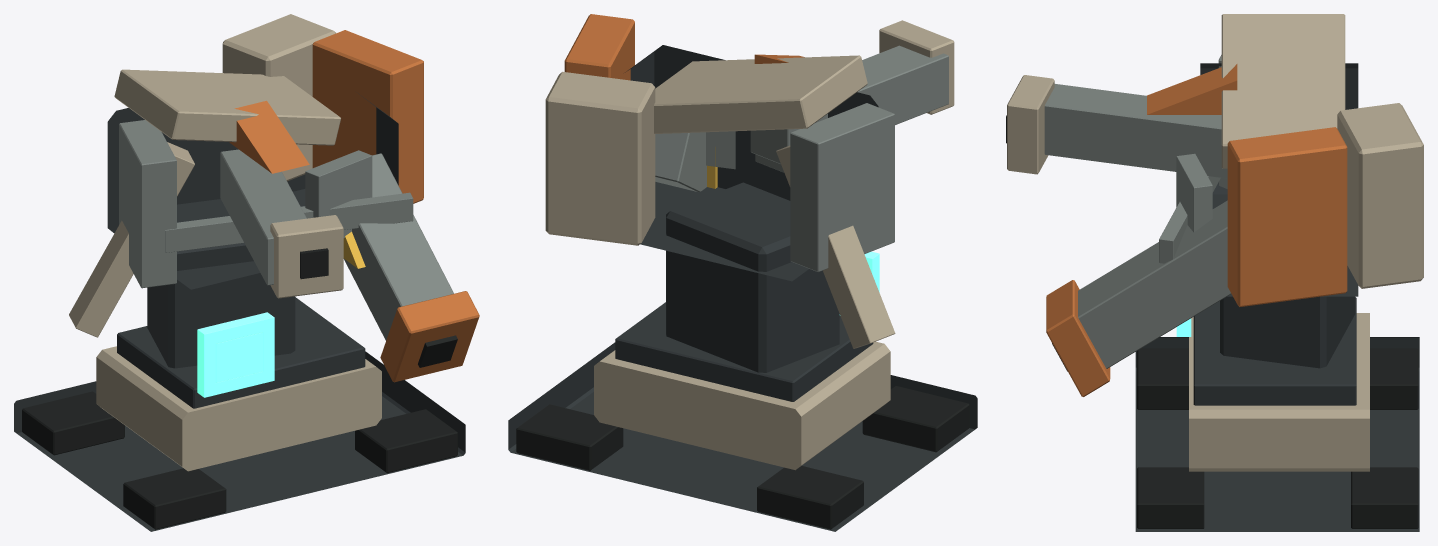
The model's file is damaged.glb.
3 views of the same model, side by side, from view 1: azimuth 30°, elevation 25°; view 2: azimuth 150°, elevation 25°; view 3: azimuth 270°, elevation 25° (orthographic). The views are drawn at different scales.
Parts seen in each view (by area): view 1: ROLE_secondary, ROLE_primary, ROLE_bareMetal, ROLE_accent, ROLE_rubber, ROLE_interaction; view 2: ROLE_secondary, ROLE_primary, ROLE_bareMetal, ROLE_rubber, ROLE_accent; view 3: ROLE_secondary, ROLE_primary, ROLE_bareMetal, ROLE_accent, ROLE_rubber.
Part boxes in pixels (left/top/right/bottom): ROLE_secondary: left=69, top=14, right=381, bottom=471; ROLE_primary: left=14, top=93, right=465, bottom=531; ROLE_bareMetal: left=119, top=120, right=453, bottom=340; ROLE_accent: left=229, top=30, right=479, bottom=382; ROLE_rubber: left=22, top=248, right=457, bottom=529; ROLE_interaction: left=197, top=312, right=274, bottom=397; ROLE_secondary: left=545, top=20, right=954, bottom=470; ROLE_primary: left=508, top=45, right=977, bottom=531; ROLE_bareMetal: left=655, top=45, right=948, bottom=272; ROLE_rubber: left=516, top=386, right=969, bottom=529; ROLE_accent: left=564, top=14, right=804, bottom=80; ROLE_secondary: left=1007, top=14, right=1423, bottom=471; ROLE_primary: left=1135, top=63, right=1419, bottom=531; ROLE_bareMetal: left=1044, top=55, right=1231, bottom=368; ROLE_accent: left=1046, top=64, right=1347, bottom=396; ROLE_rubber: left=1006, top=115, right=1418, bottom=528.
Size of the model in its own units: 4.8 by 5.27 by 5.08.
